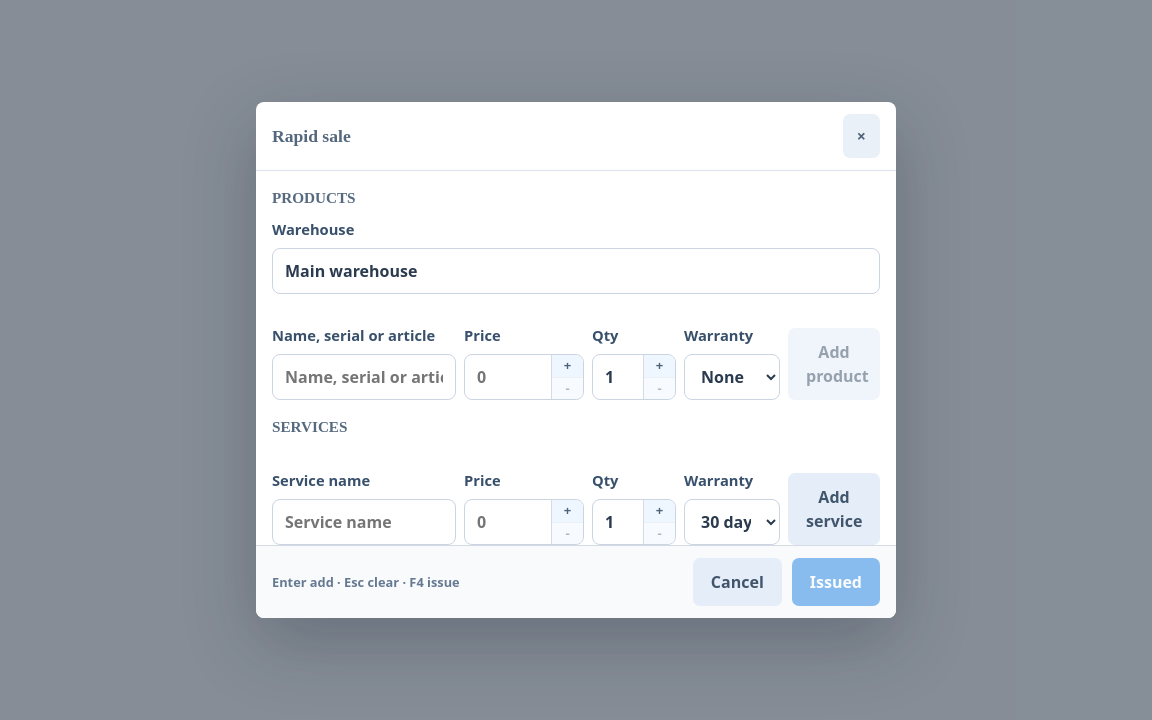
Test: RapidSaleModal › shows retail price and wholesale toggle for stock products with wholesale price
Type "iPhone" into the field with placeholder "Name, serial or article".
click(364, 377); type("iPhone")  # box [272, 354, 456, 400]
Wait 250 ms
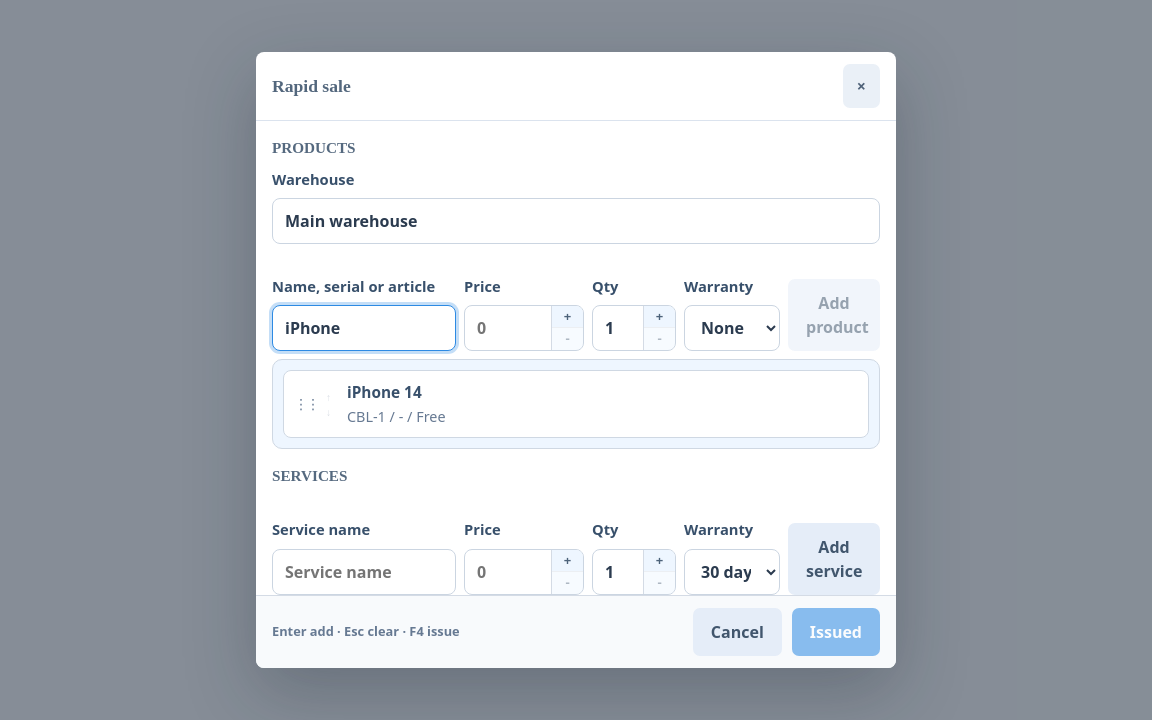
Click the button "iPhone 14 CBL-1 / - / Free".
click(384, 392)  # box [343, 375, 860, 433]
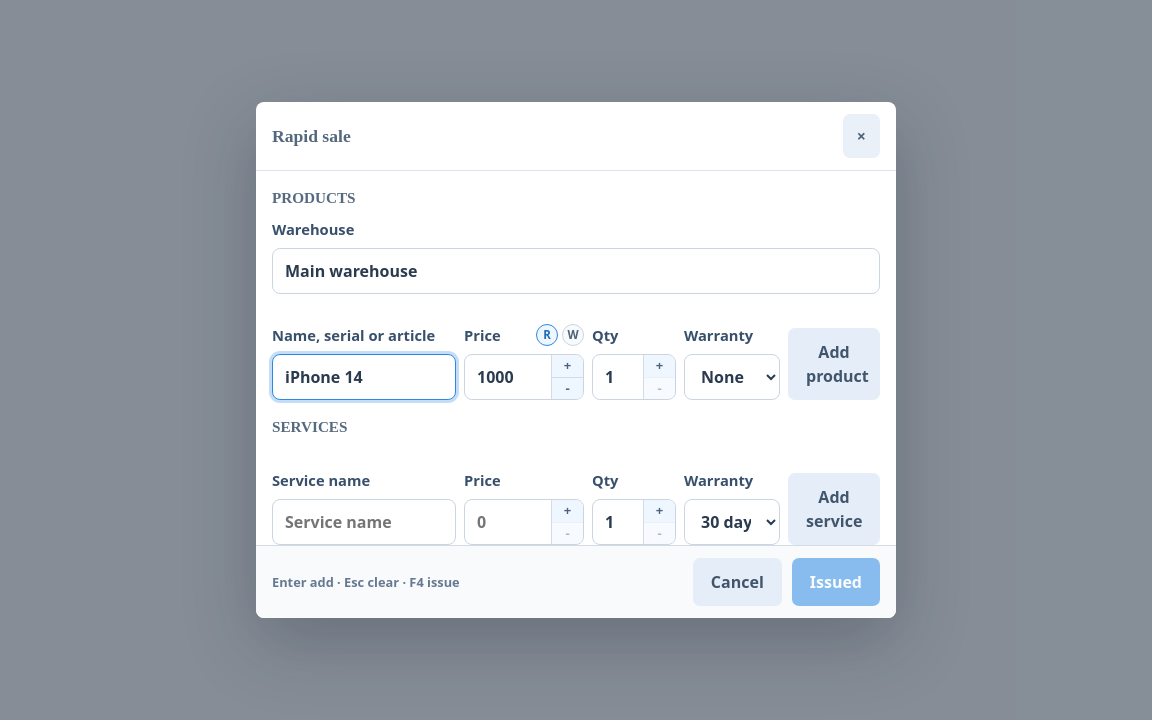
Result: the button named "Retail" is shown at [536, 324, 558, 346]
Result: the field named "Product price" holds "1000" at [465, 355, 551, 399]
Result: the button named "Wholesale" is shown
Click the button named "Wholesale".
click(573, 335)  # box [562, 324, 584, 346]
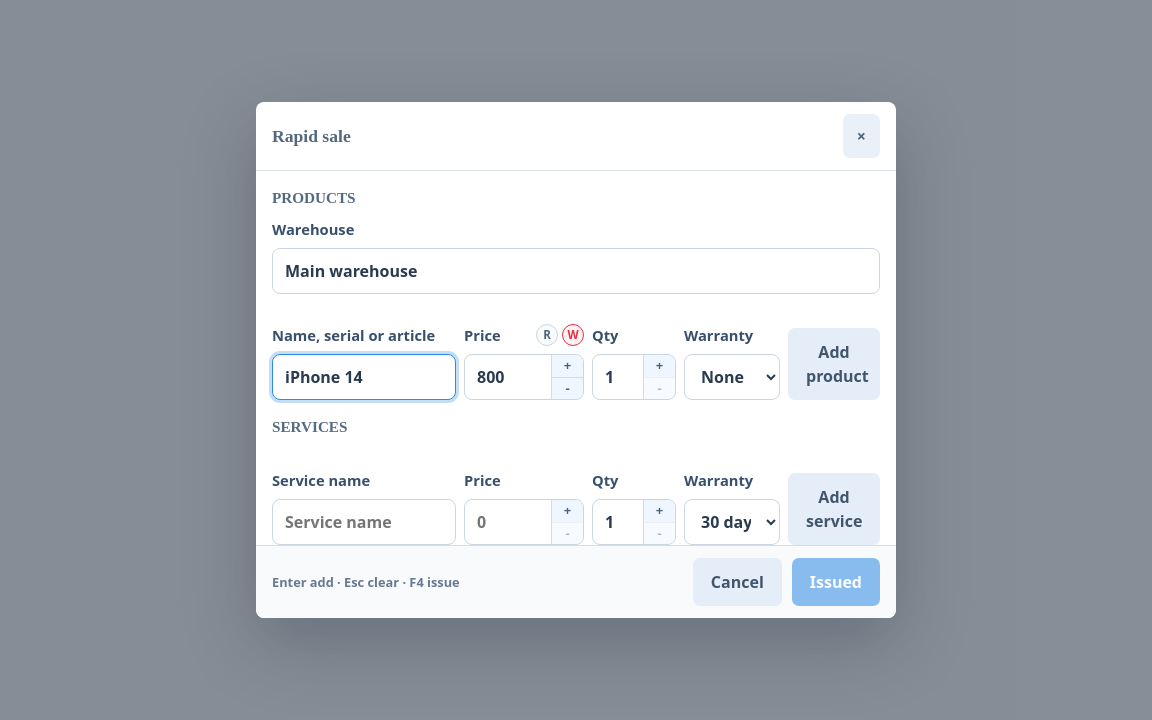
Result: the field named "Product price" holds "800" at [465, 355, 551, 399]
